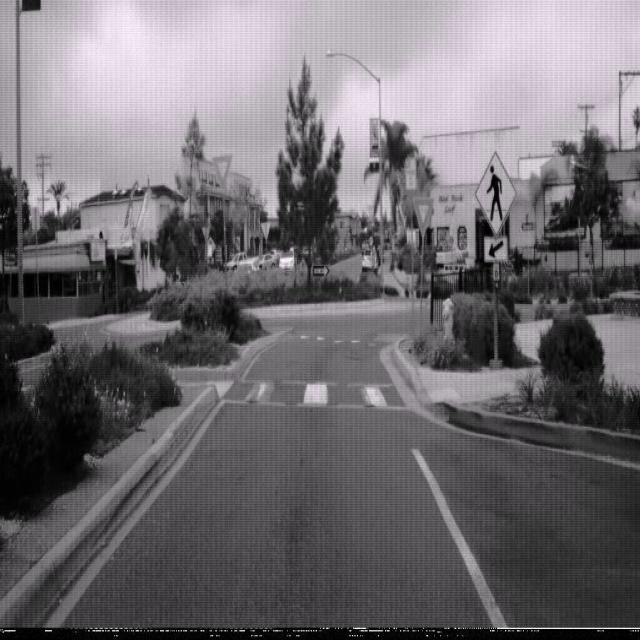pedestrianCrossing: (474, 150, 517, 236)
yield: (412, 194, 435, 238), (211, 151, 233, 191)
